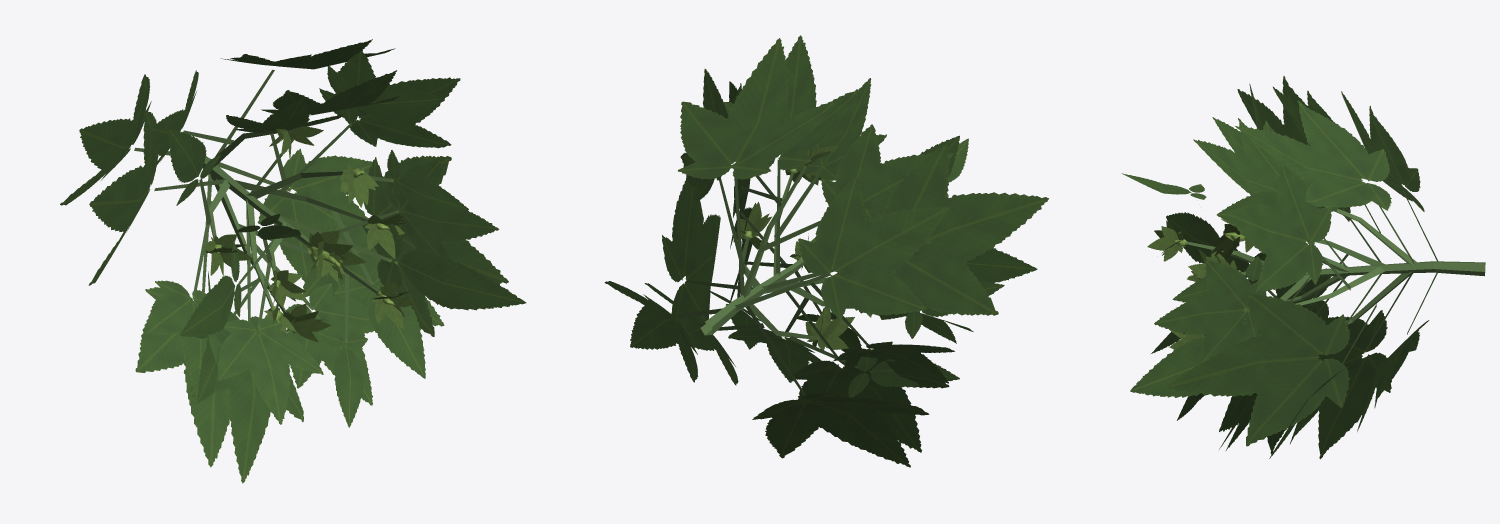
The model's file is p_afghan_preflower_c0_cards.obj.
3 renders of one model, left to right at view 1: azimuth 30°, elevation 25°; view 2: azimuth 150°, elevation 25°; view 3: azimuth 270°, elevation 25°, orthographic. The views are drawn at different scales.
Size of the model in its own units: 1.43 by 1.44 by 1.06.
1 material, 1 textured.
